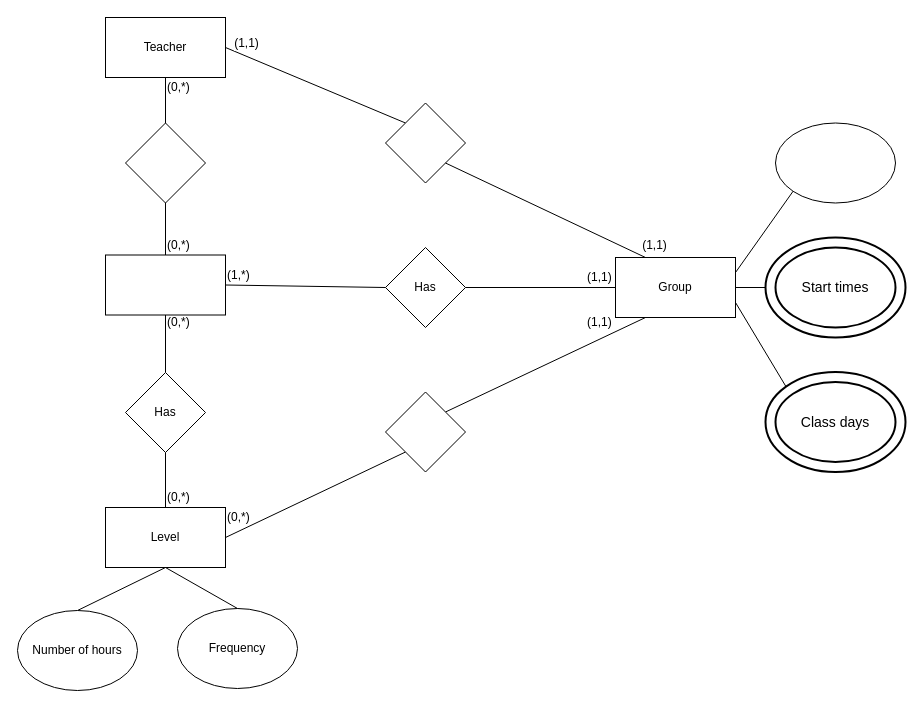
The diagram is 924 pixels wide and 708 high, and some of its shapes have lost their labels. The shapes that lost their labels are listed below. From the top down, each one's centre as x and y in pixels, then its label:
At (165,162): "Teaches".
At (425,142): "Supervises".
At (835,162): "Number of days".
At (165,284): "Language course".
At (425,431): "Is assigned to".
